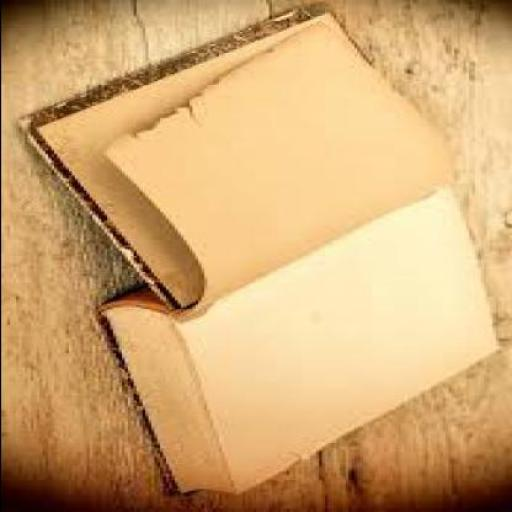paper: (20, 5, 500, 493), (102, 20, 460, 310), (170, 183, 503, 491)
